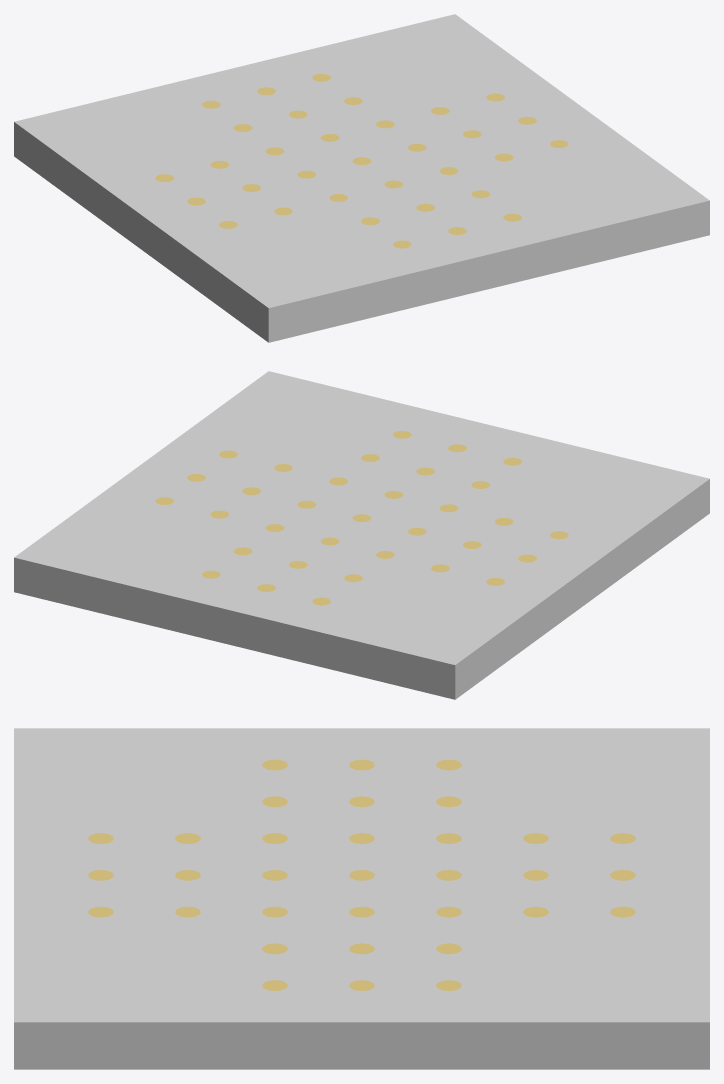
File: board.glb
The picture shows the model from 3 angles, top to bottom: view 1: azimuth 30°, elevation 25°; view 2: azimuth 150°, elevation 25°; view 3: azimuth 270°, elevation 25°; orthographic projection. The views are drawn at different scales.
Parts seen in each view (by area): view 1: Board; view 2: Board; view 3: Board.
Part boxes in pixels (box(x1,y1,x2,y2)): Board: box(14, 14, 709, 342); Board: box(14, 371, 709, 699); Board: box(14, 728, 709, 1069).
Bounding box in the file's own units: 8 × 0.6 × 8.
